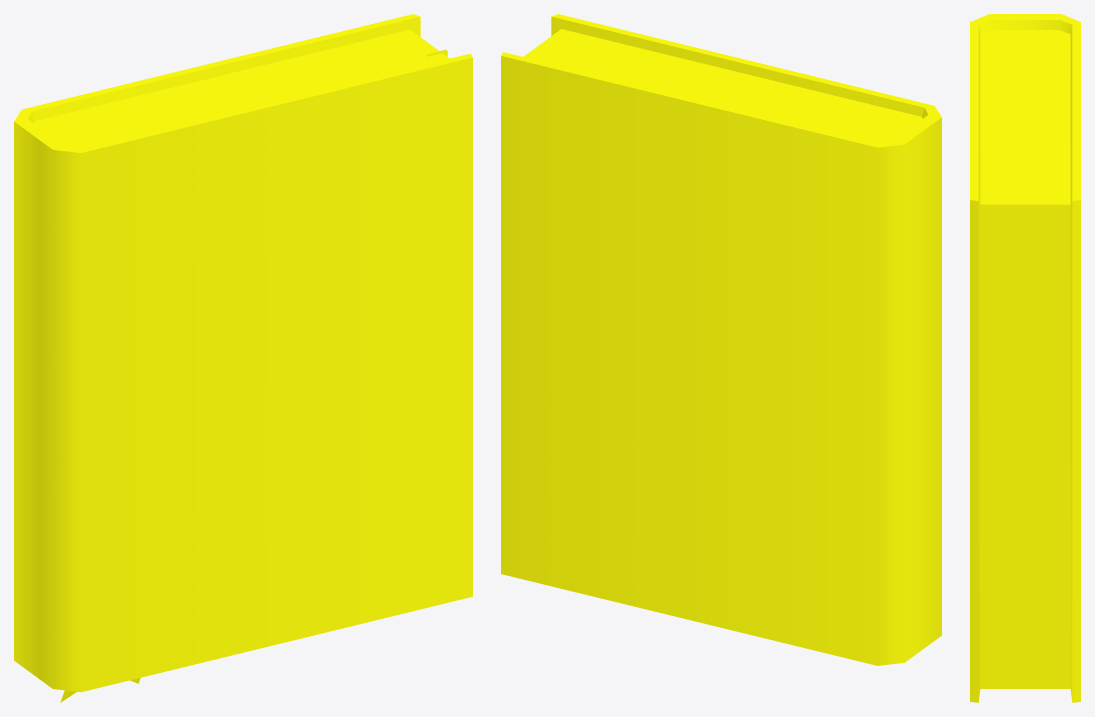
The model's file is SM_Book01.glb.
The picture shows the model from 3 angles, left to right: view 1: azimuth 30°, elevation 25°; view 2: azimuth 150°, elevation 25°; view 3: azimuth 270°, elevation 25°; orthographic projection. The views are drawn at different scales.
Parts seen in each view (by area): view 1: SM_Book01_LOD0; view 2: SM_Book01_LOD0; view 3: SM_Book01_LOD0.
Boxes of the visible parts, <box> form: SM_Book01_LOD0: <box>14,14,472,702</box>; SM_Book01_LOD0: <box>501,14,941,665</box>; SM_Book01_LOD0: <box>970,14,1080,702</box>.
Bounding box in the file's own units: 0.224 × 0.3076 × 0.056.
Materials: 1 (1 with a texture image).
